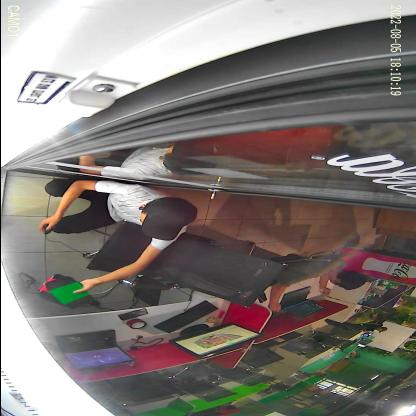green: (42, 276, 92, 309)
red: (36, 274, 82, 304)
